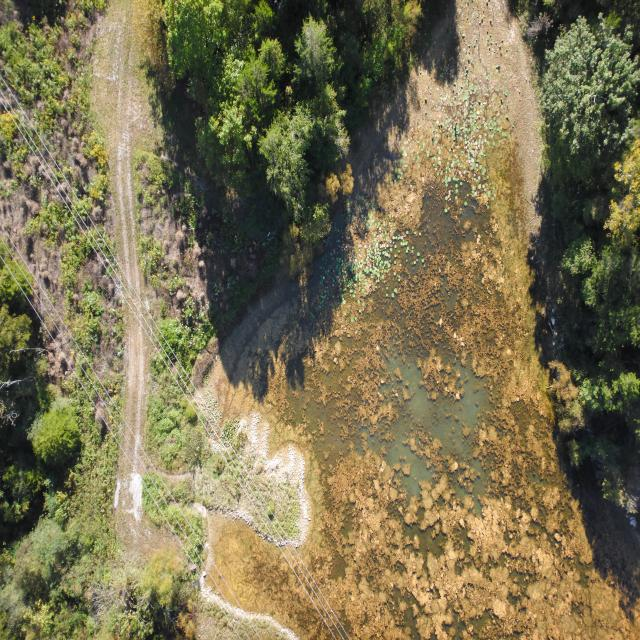Area of Interest: (181, 8, 413, 272), (548, 1, 640, 431), (4, 283, 75, 531)
